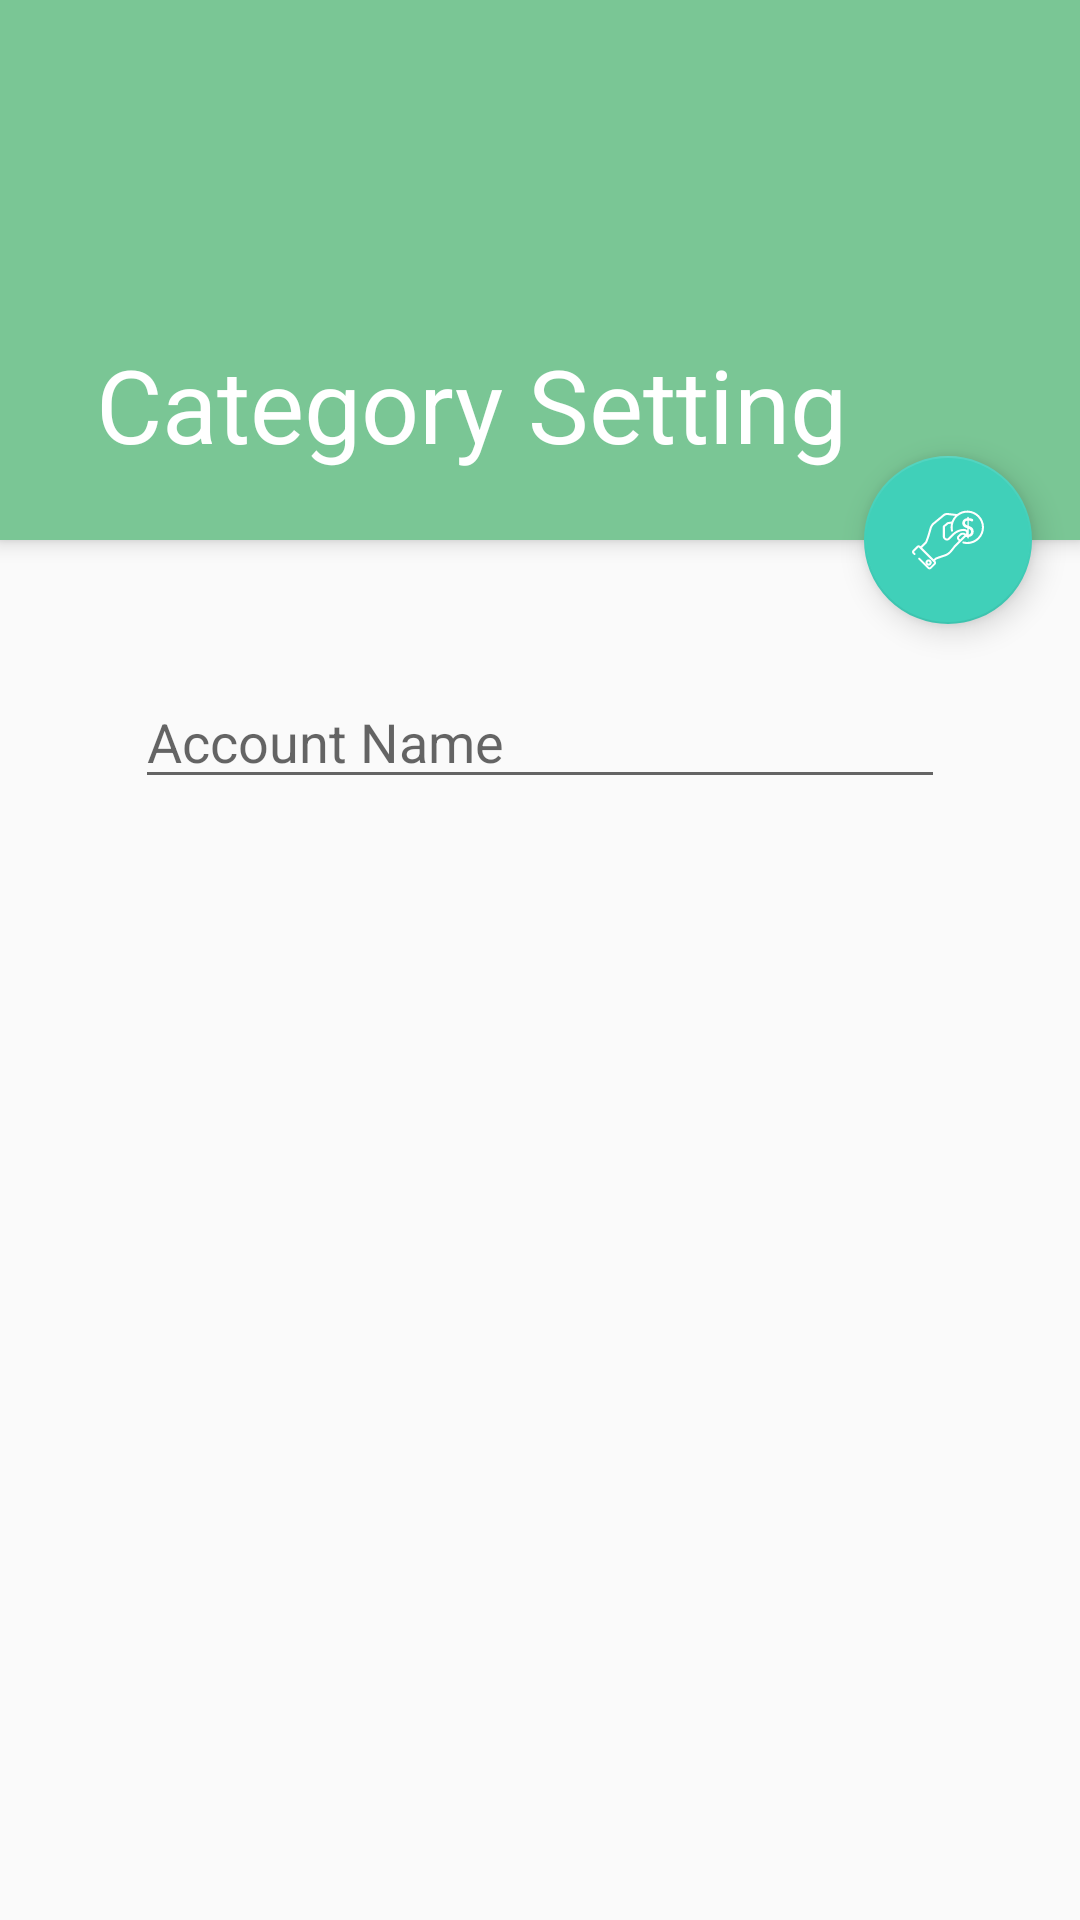

Icons on this 1080px×1920px Android screen, each with the point to tap as point (x, y):
coin: point (948, 540)
